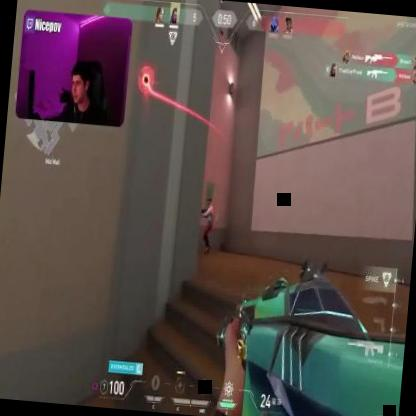enemy: (197, 196, 216, 254)
enemy_head: (206, 197, 212, 209)
